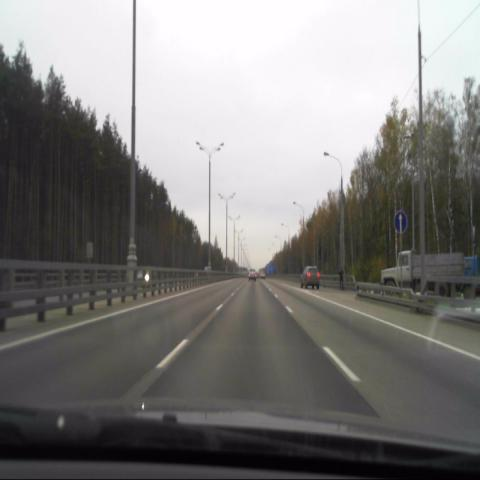4_1_1: (394, 212, 407, 234)
